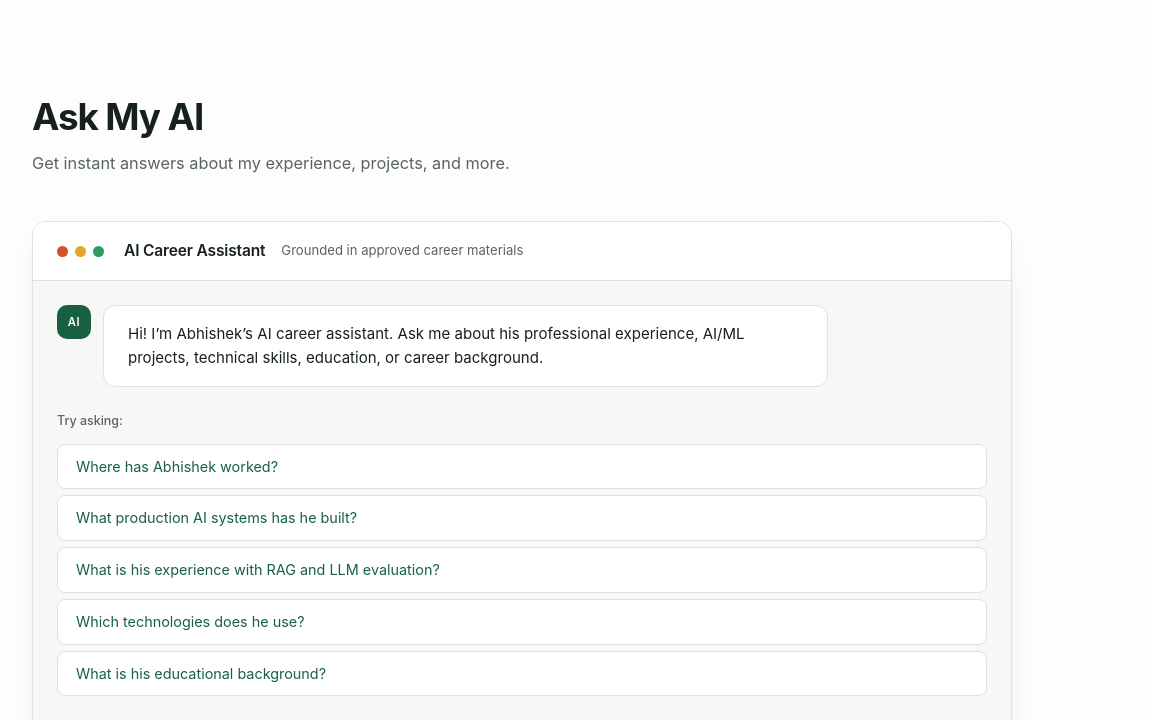
Test: AI career assistant › renders model output as text and never as HTML
Click the button "Where has Abhishek worked?": (177, 466) [57,444,987,489]
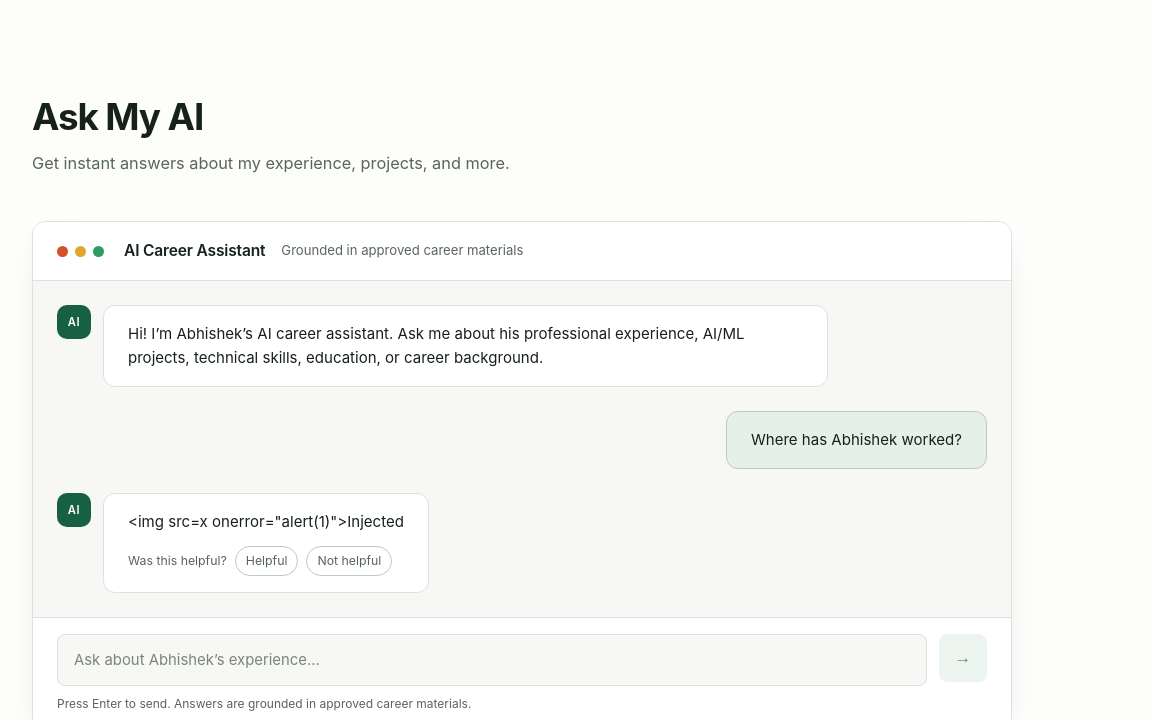
Expected: the text "<img src=x onerror=\"alert(1)\">Injected" is shown, [128,510,404,534]
